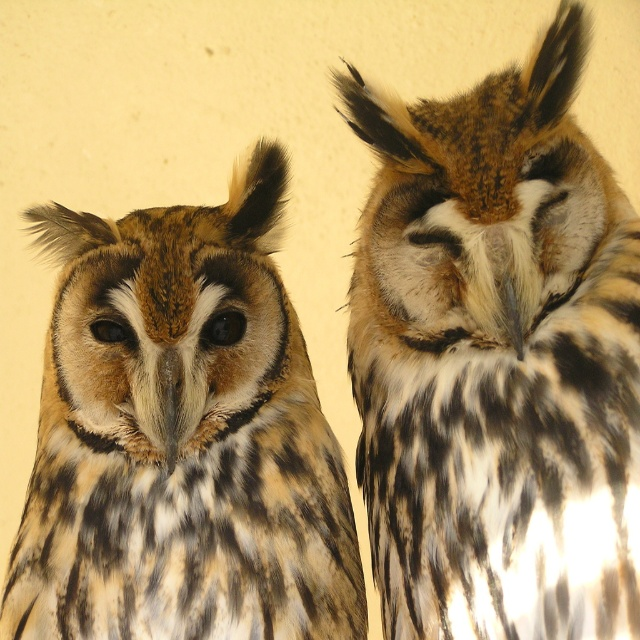Owl: (322, 0, 640, 639), (0, 139, 369, 637)
